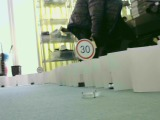speed_30: (73, 37, 96, 61)
